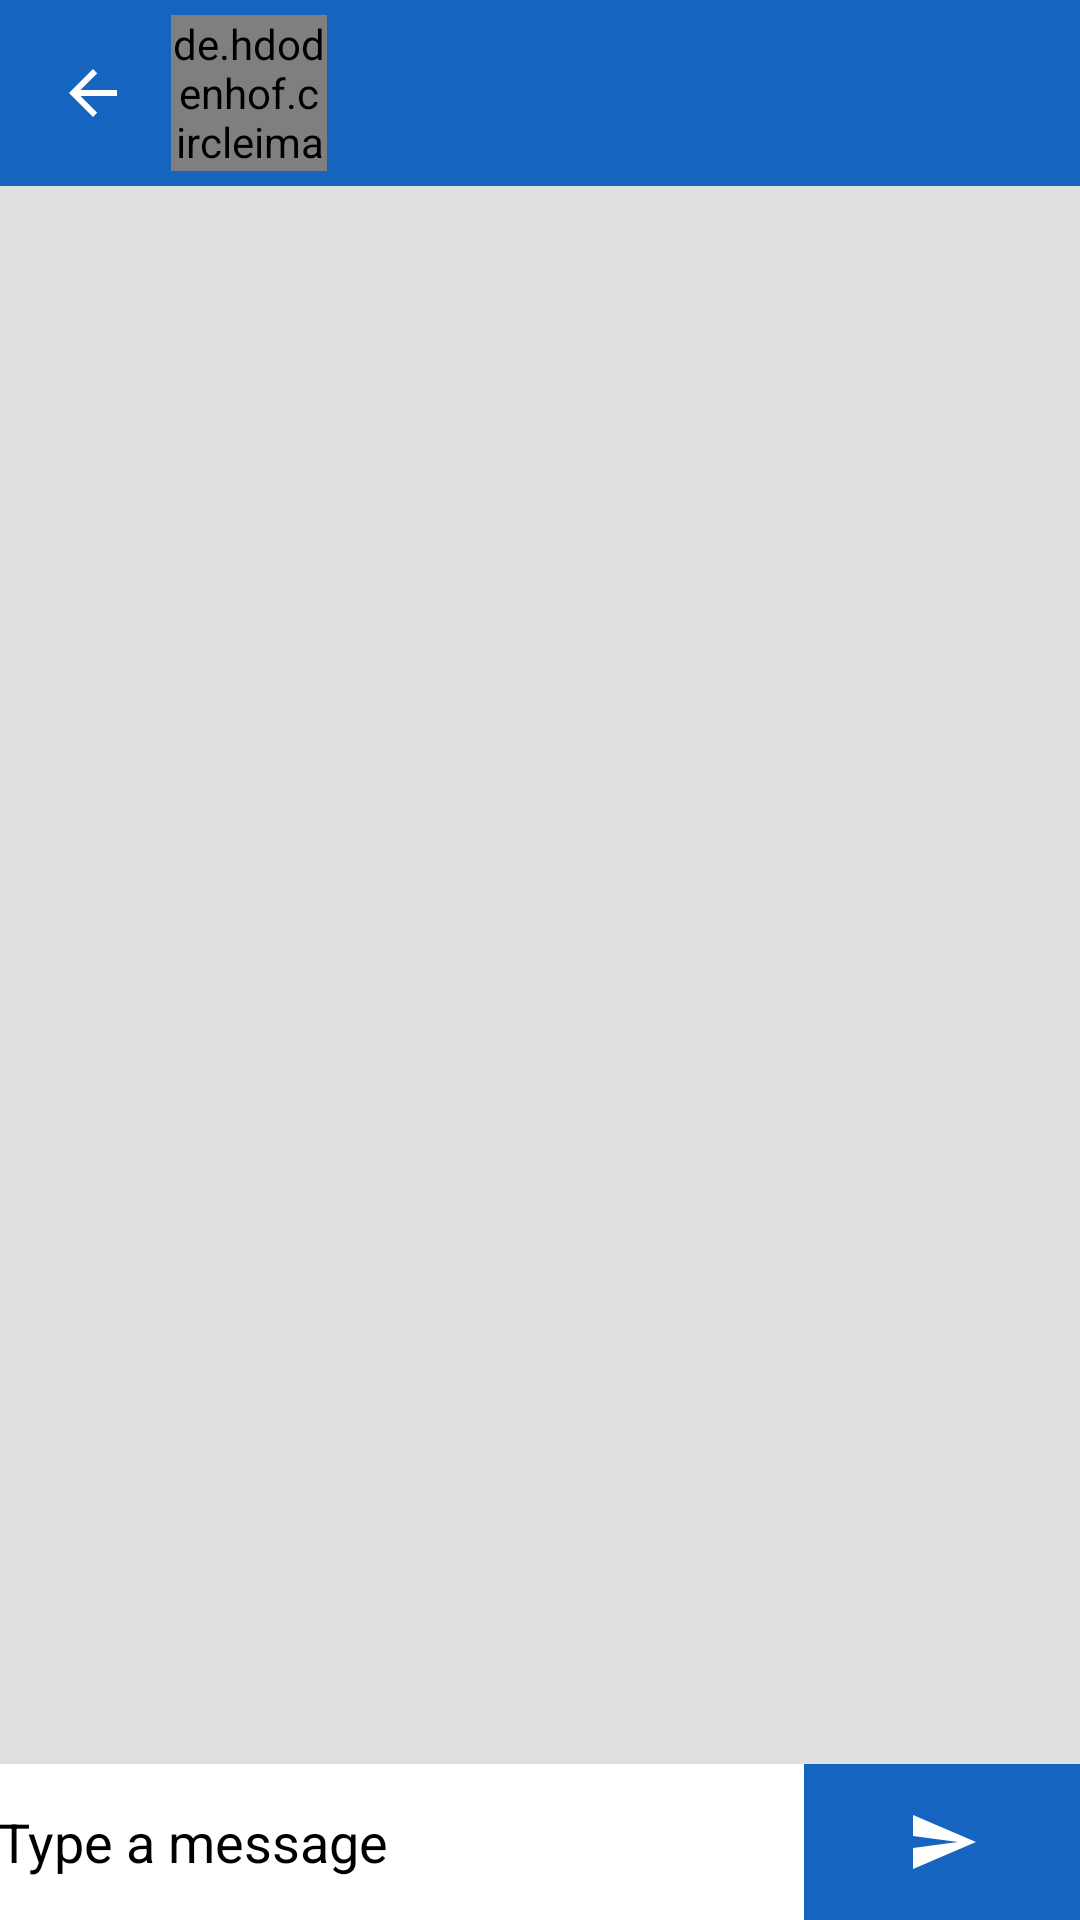

Named icons in this screenshot (1080px x 1920px) and their centers, point (x, y):
back: point (93, 93)
Send: point (942, 1842)
